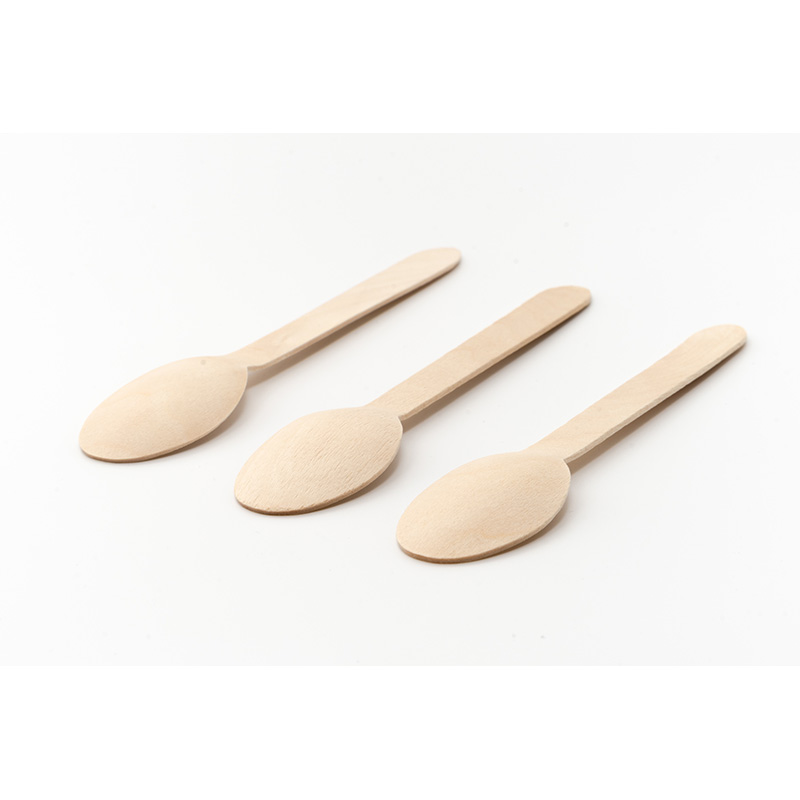Wooden Utensils: (62, 205, 761, 584)
